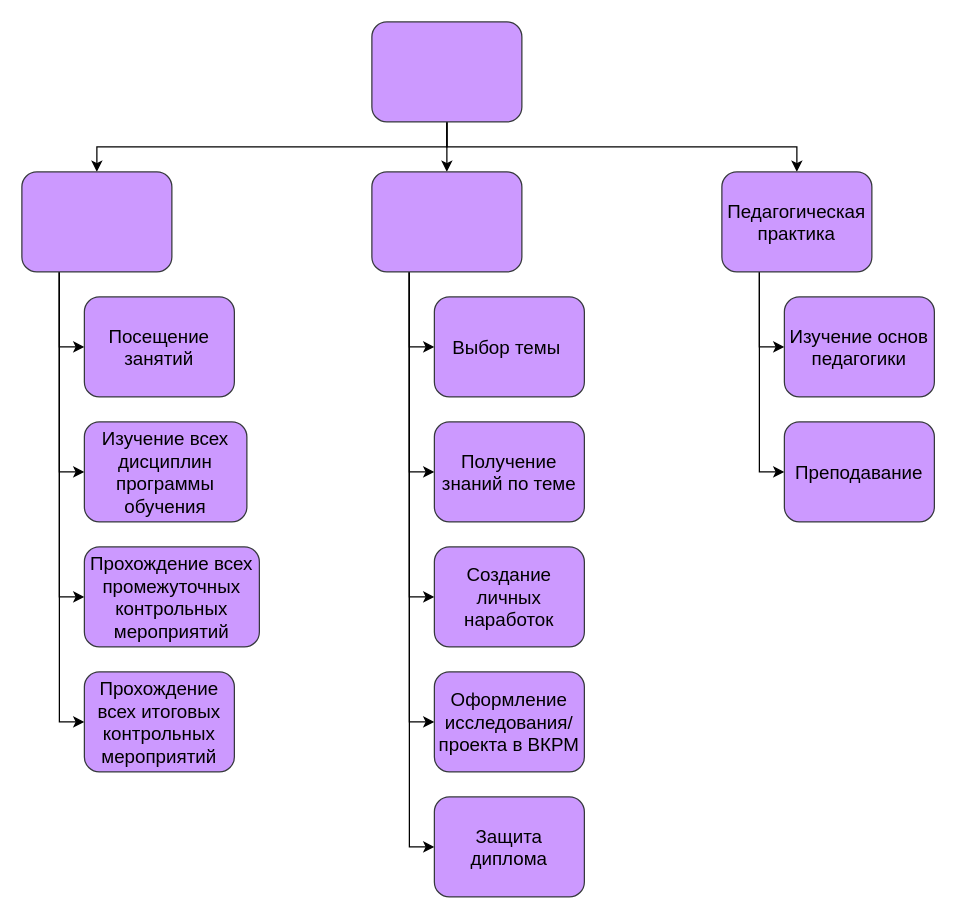
Some shapes in this 956 by 919 pixel diagram are drawn without their labels. Each missing label, with the centre of its shape:
"Научная работа" goes at (446,221).
"Обучение в магистратуре" goes at (446,71).
"Работа студента" goes at (96,221).
